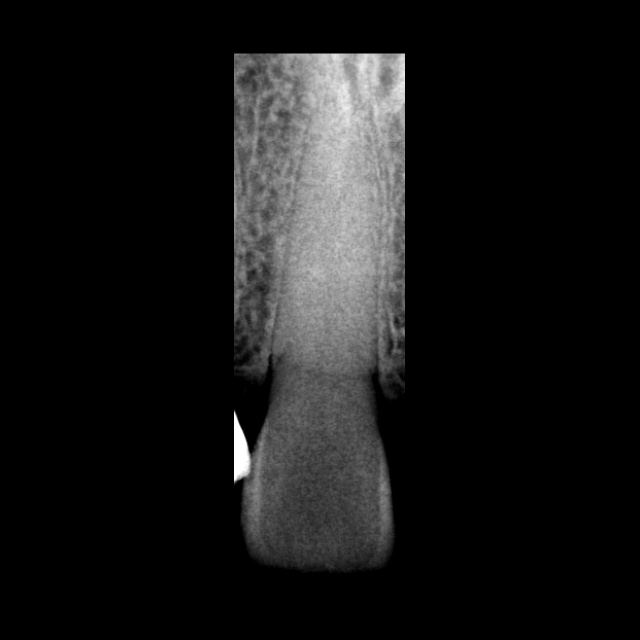tooth: (240, 63, 394, 577)
